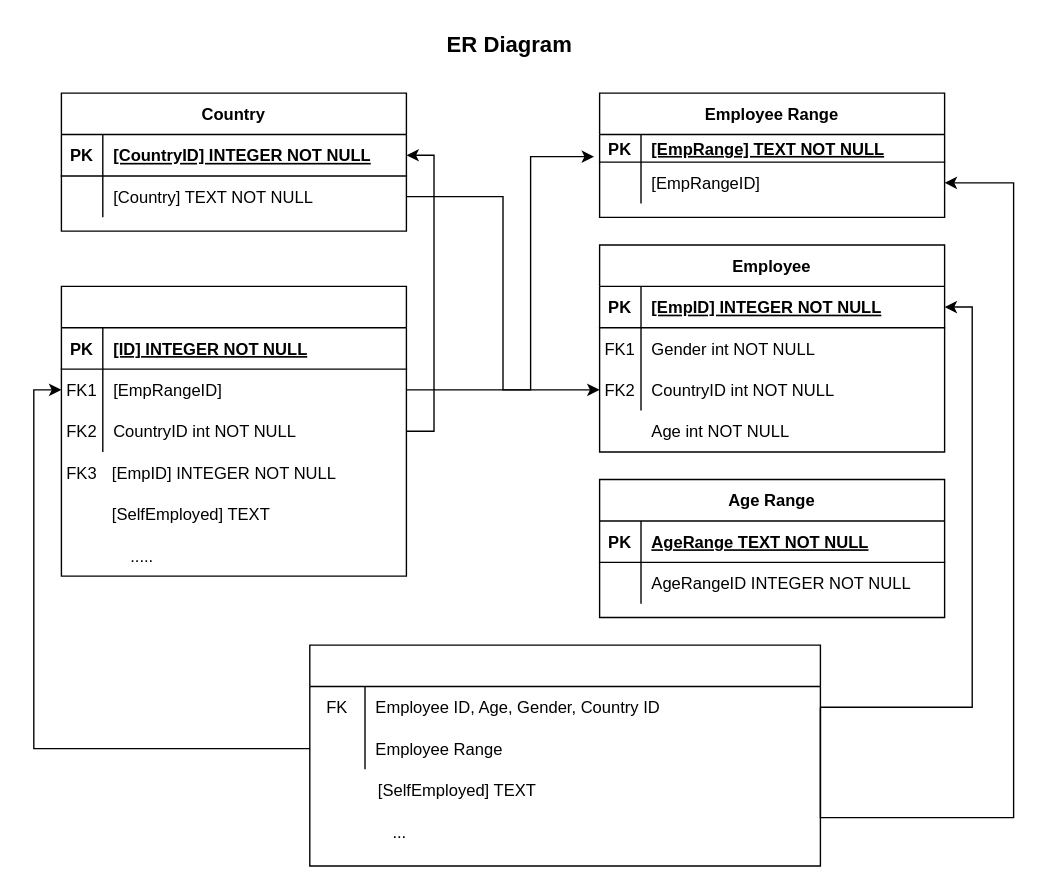
Image size: 1049x890. Some labels were removed from this diagram. The shapes that lost their labels are listed below. From the top down, each one's box as (x1, y1, x2, y2) in pixels, then its label:
(60, 285, 406, 576): Survey
(308, 644, 820, 866): Final Table for Modelling
